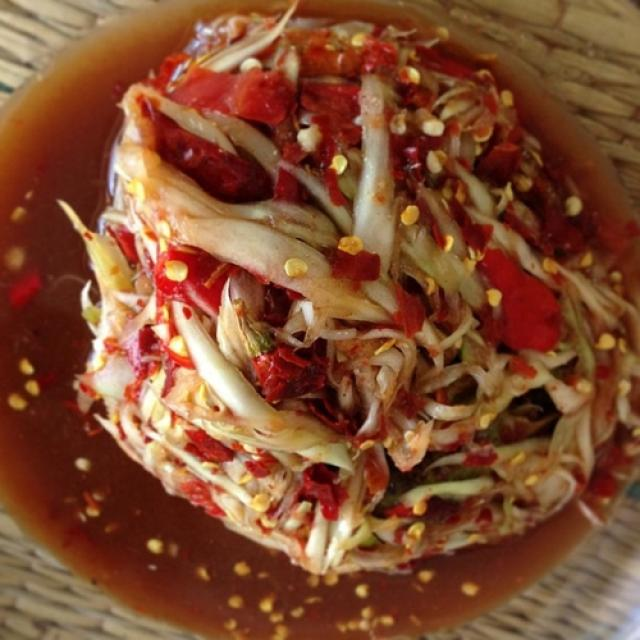蔬菜料理: (47, 32, 621, 613)
